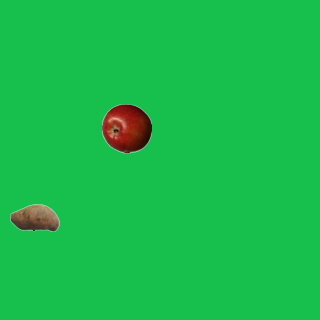Apple Braeburn: (101, 103, 151, 153)
Potato Sweet: (9, 192, 59, 242)
